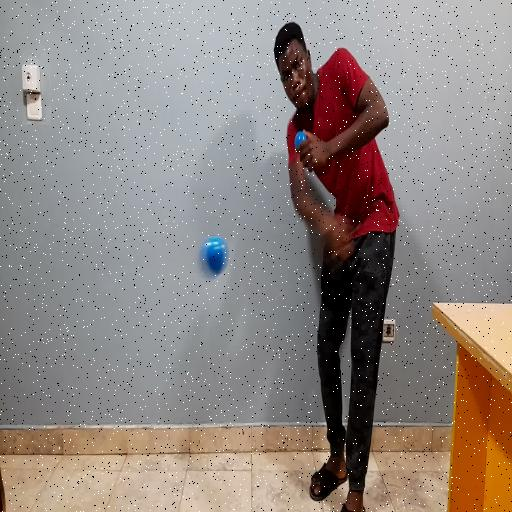plastic-ball: (200, 237, 227, 277)
